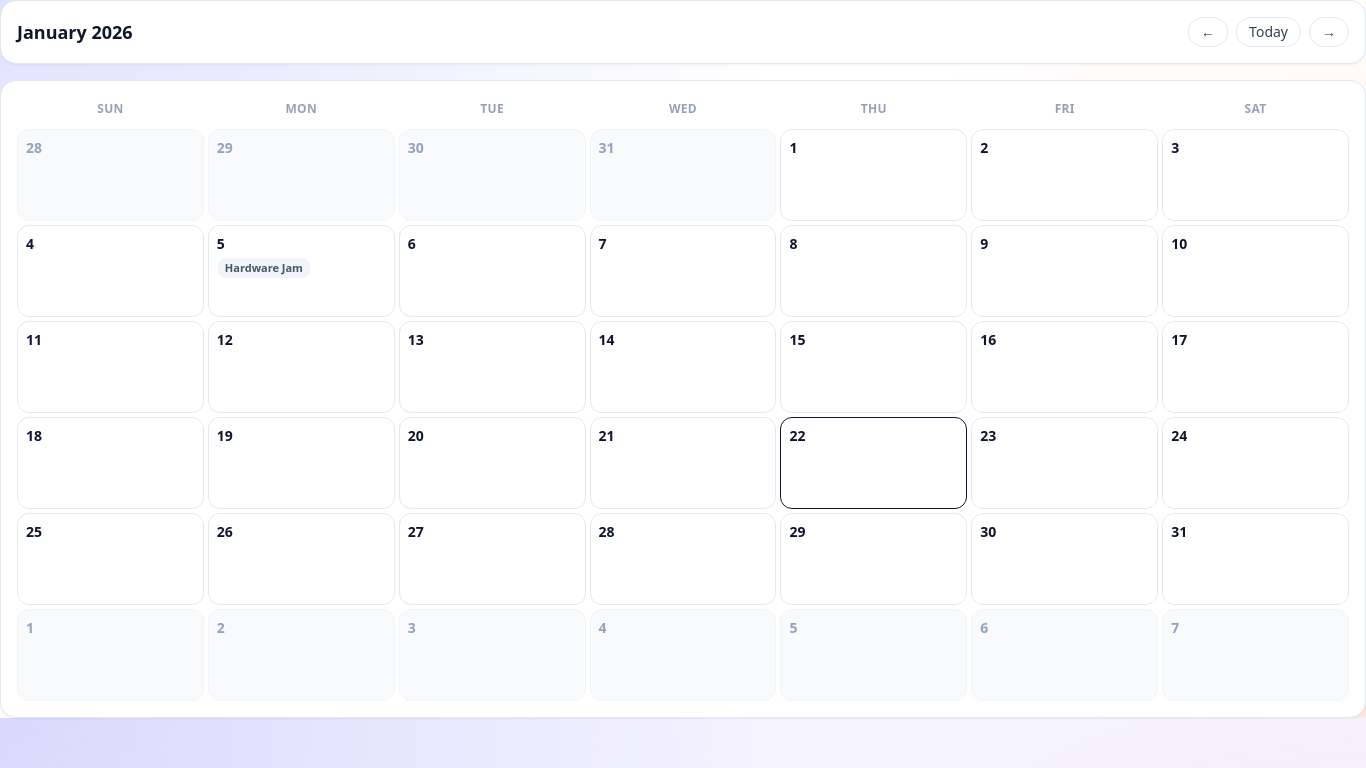
EventsCalendar › opens the day drawer when a day is selected
Step 1. Click the cell "5 Hardware Jam" → (301, 271), box [208,225,395,317]
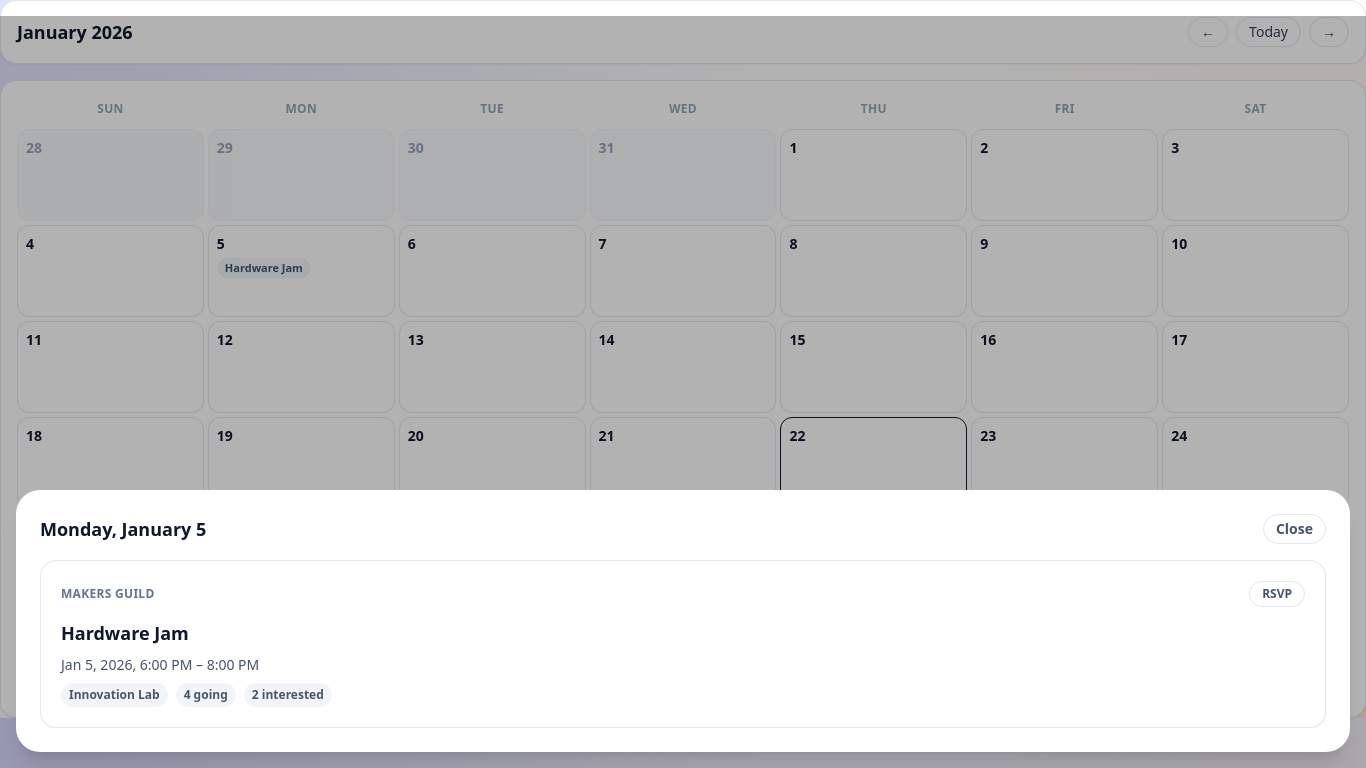
Expected: the text "Hardware Jam" is shown, [217,258,311,278]
Result: the dialog is shown
